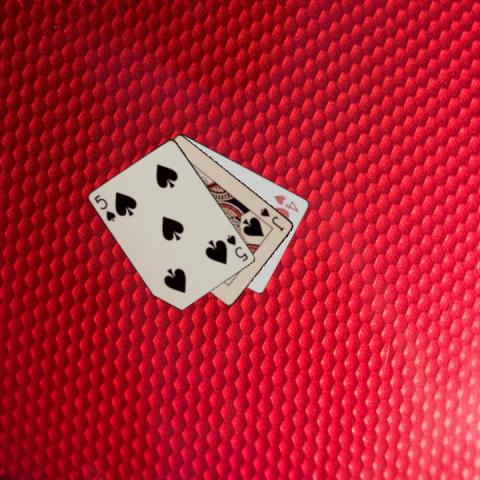4h: (271, 192, 301, 213)
5s: (223, 232, 250, 264), (92, 192, 118, 223)
Js: (257, 204, 286, 232)
